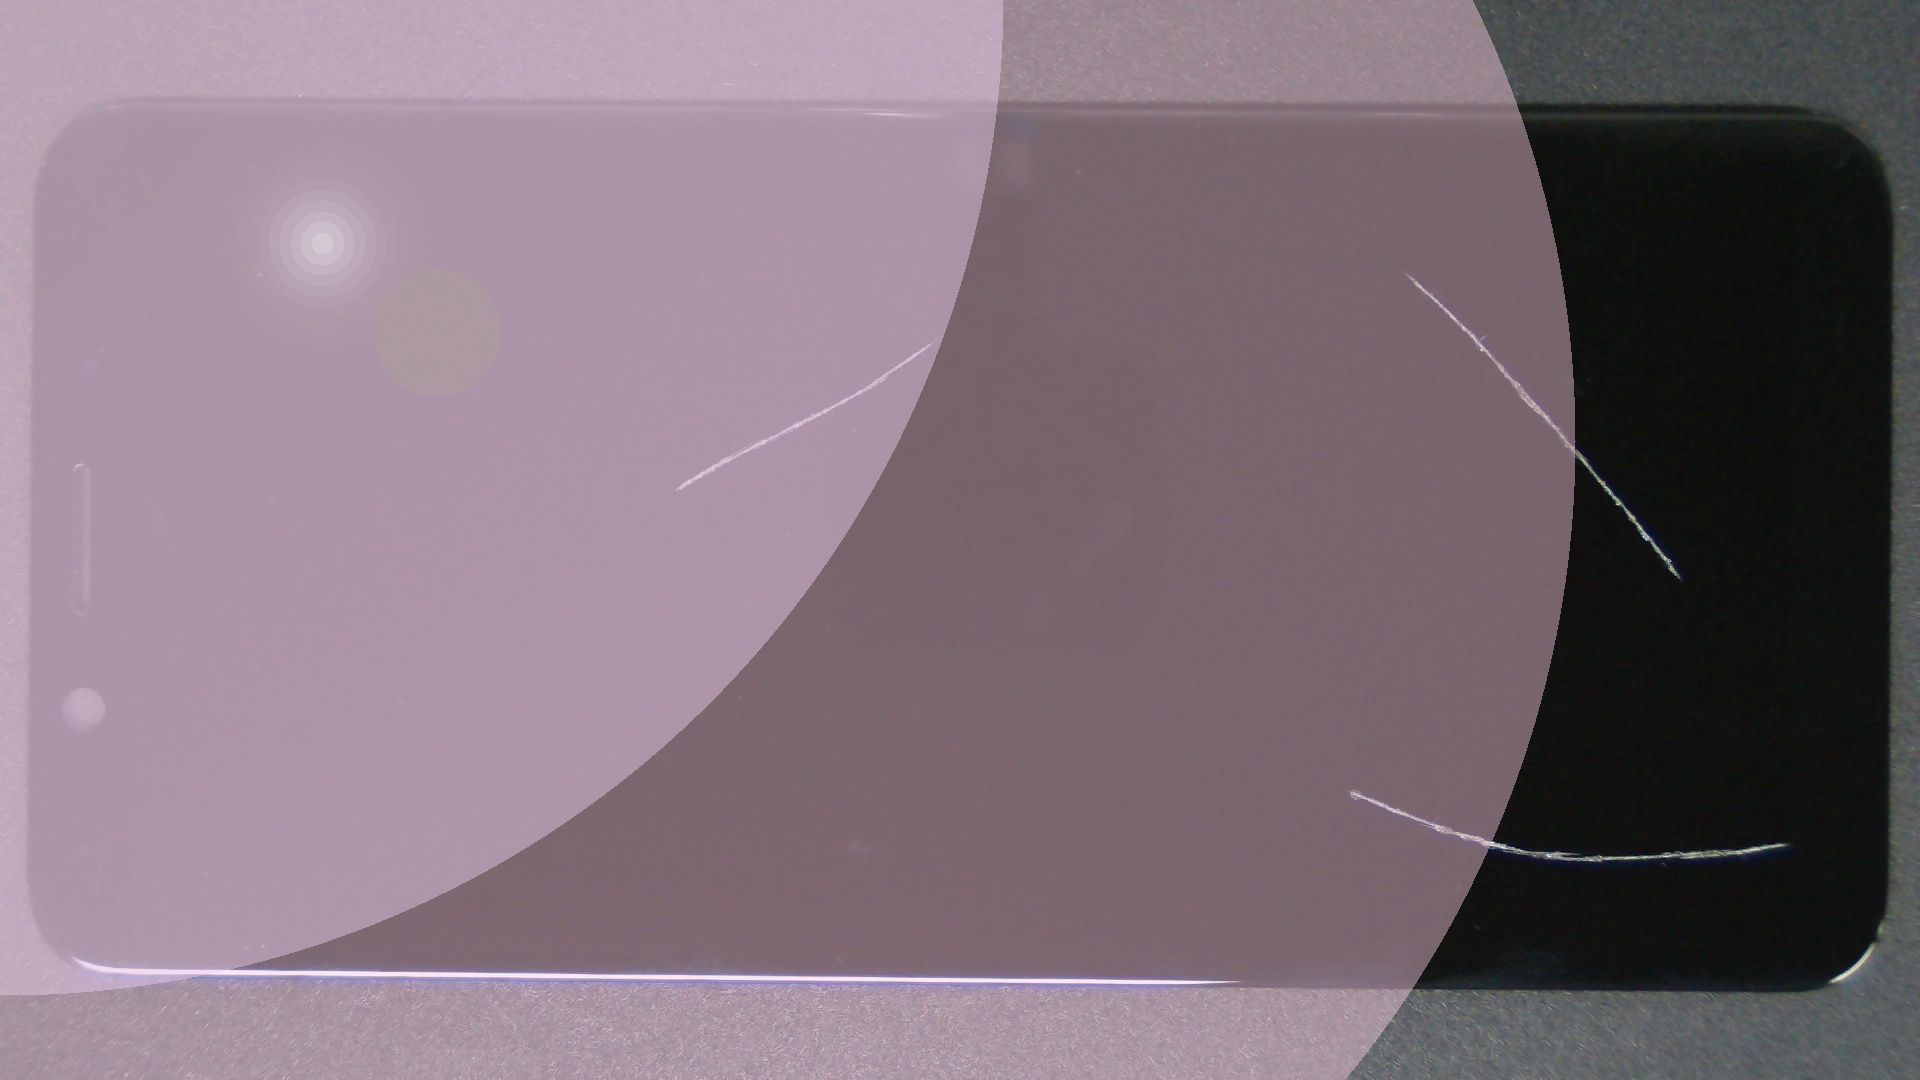oil: (676, 394, 1920, 1080), (703, 136, 1920, 410), (468, 169, 1403, 509)
